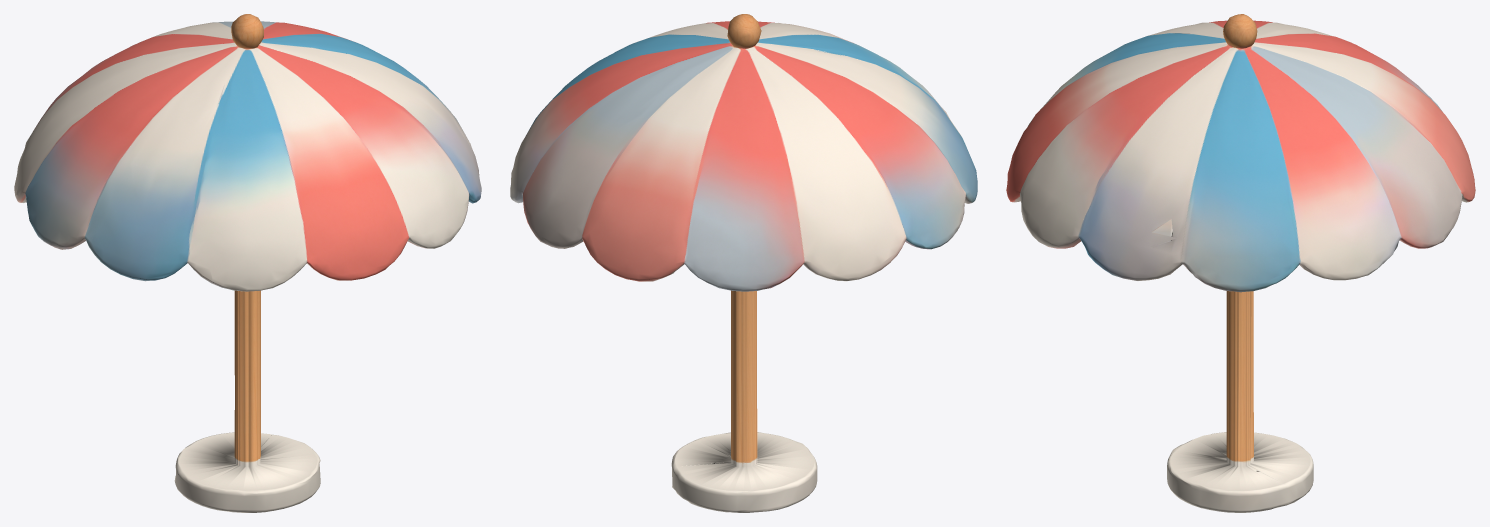
Rendered from beach-umbrella.glb.
3 renders of one model, left to right at view 1: azimuth 30°, elevation 25°; view 2: azimuth 150°, elevation 25°; view 3: azimuth 270°, elevation 25°, orthographic.
Size of the model in its own units: 0.8667 by 0.9517 by 0.8638.
1 material, 1 textured.
